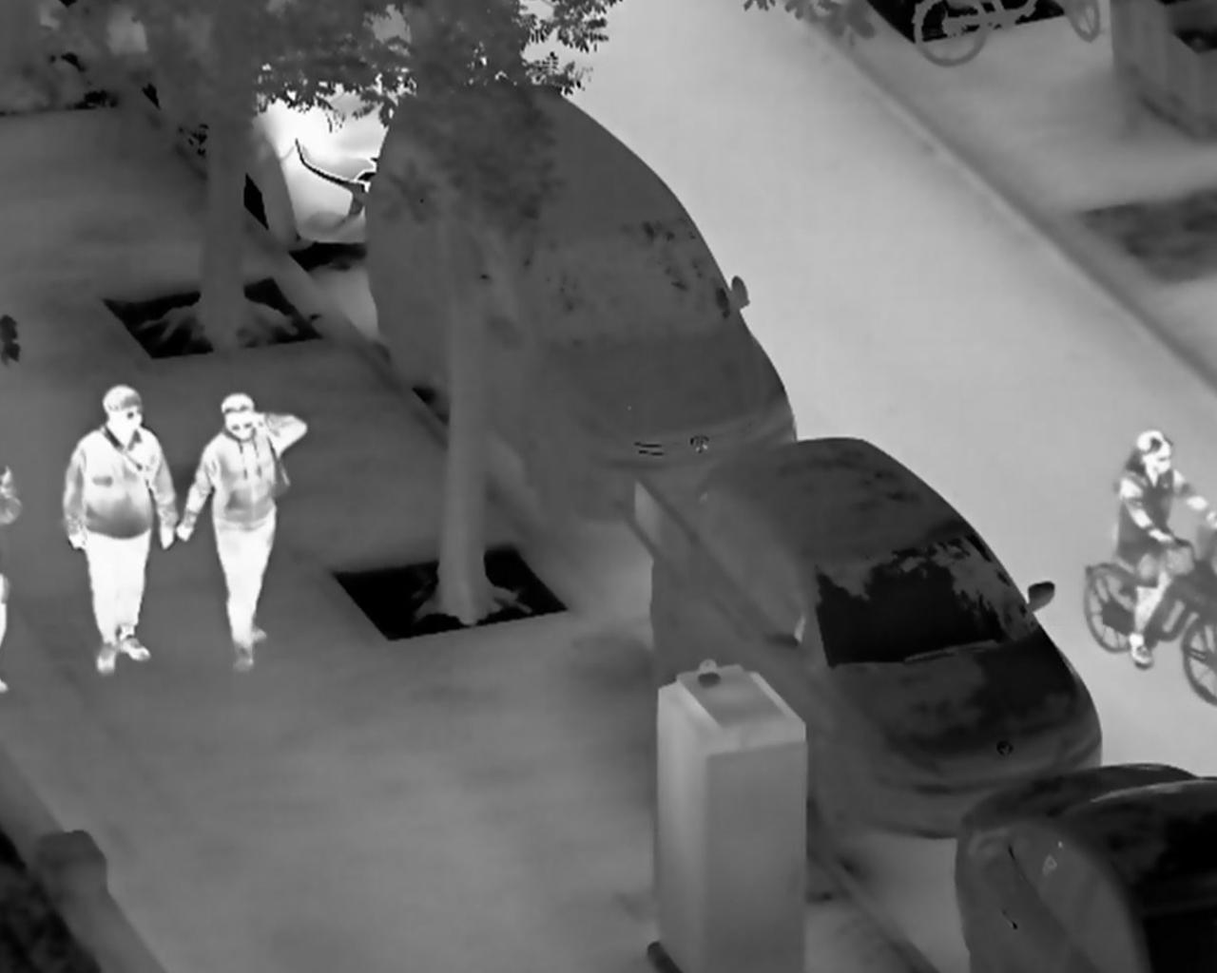person: (175, 390, 310, 675), (58, 385, 179, 674), (1113, 425, 1217, 670)
